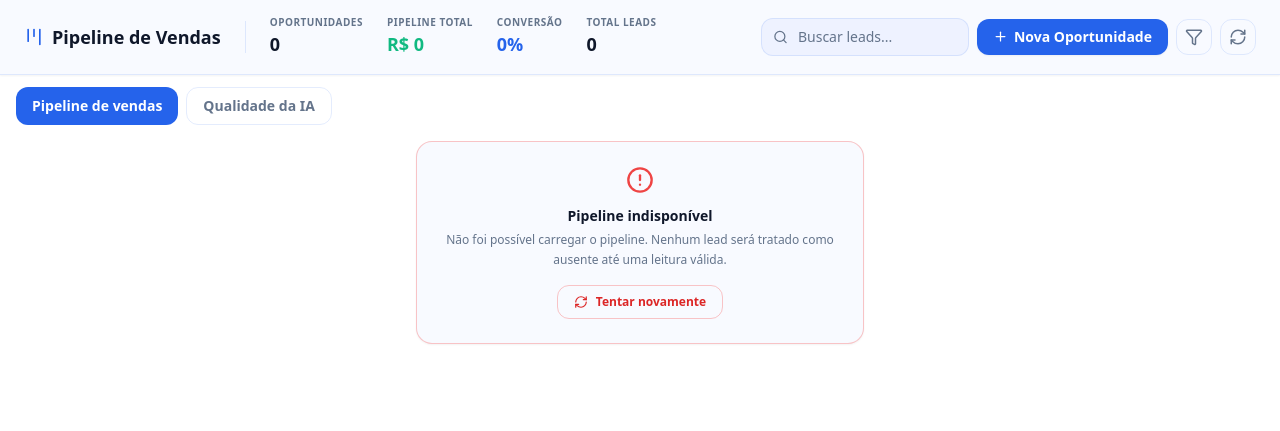
Test: <CRMPage /> — status autoritativo de matrícula › mostra erro de leitura com retry, em vez de um pipeline vazio
Check: the message shows "Pipeline indisponível", box [568, 206, 712, 225]
Click the button "Tentar novamente" at (640, 302), box [557, 285, 723, 319]
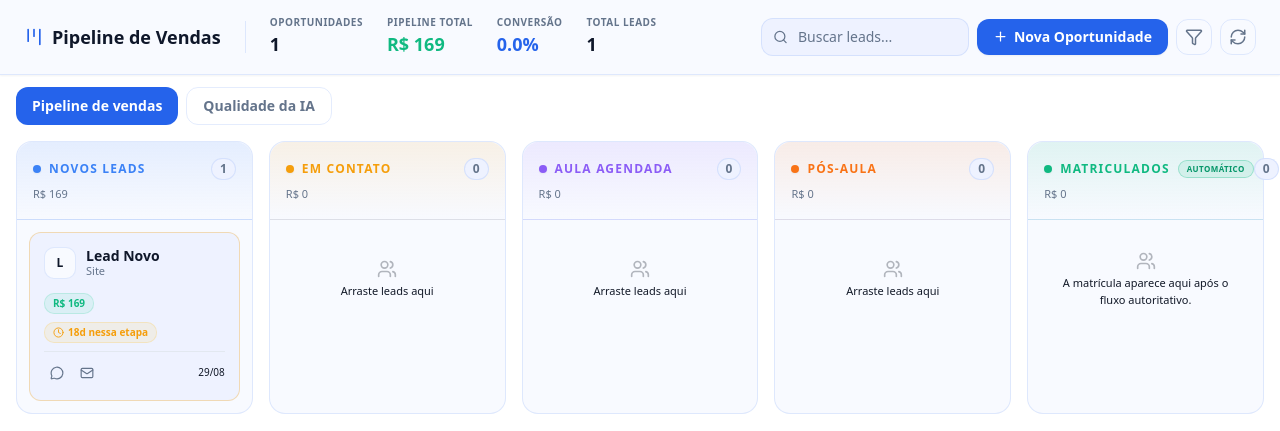
Check: the heading "Lead Novo" is shown, box [86, 246, 163, 264]
